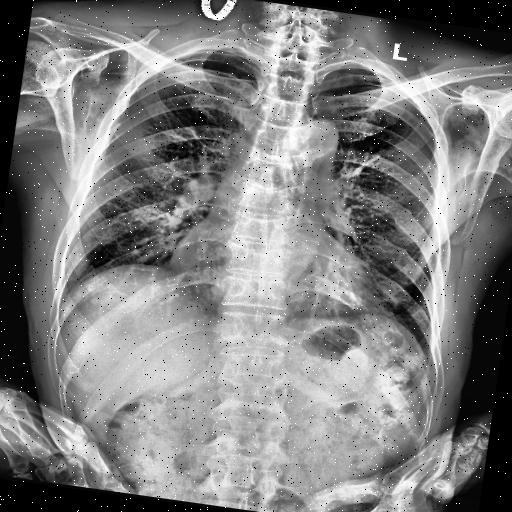0- Aortic enlargement: (286, 114, 342, 178), (286, 113, 342, 168), (296, 116, 341, 158)
3- Cardiomegaly: (163, 230, 382, 322), (164, 225, 374, 318), (160, 234, 380, 320)
